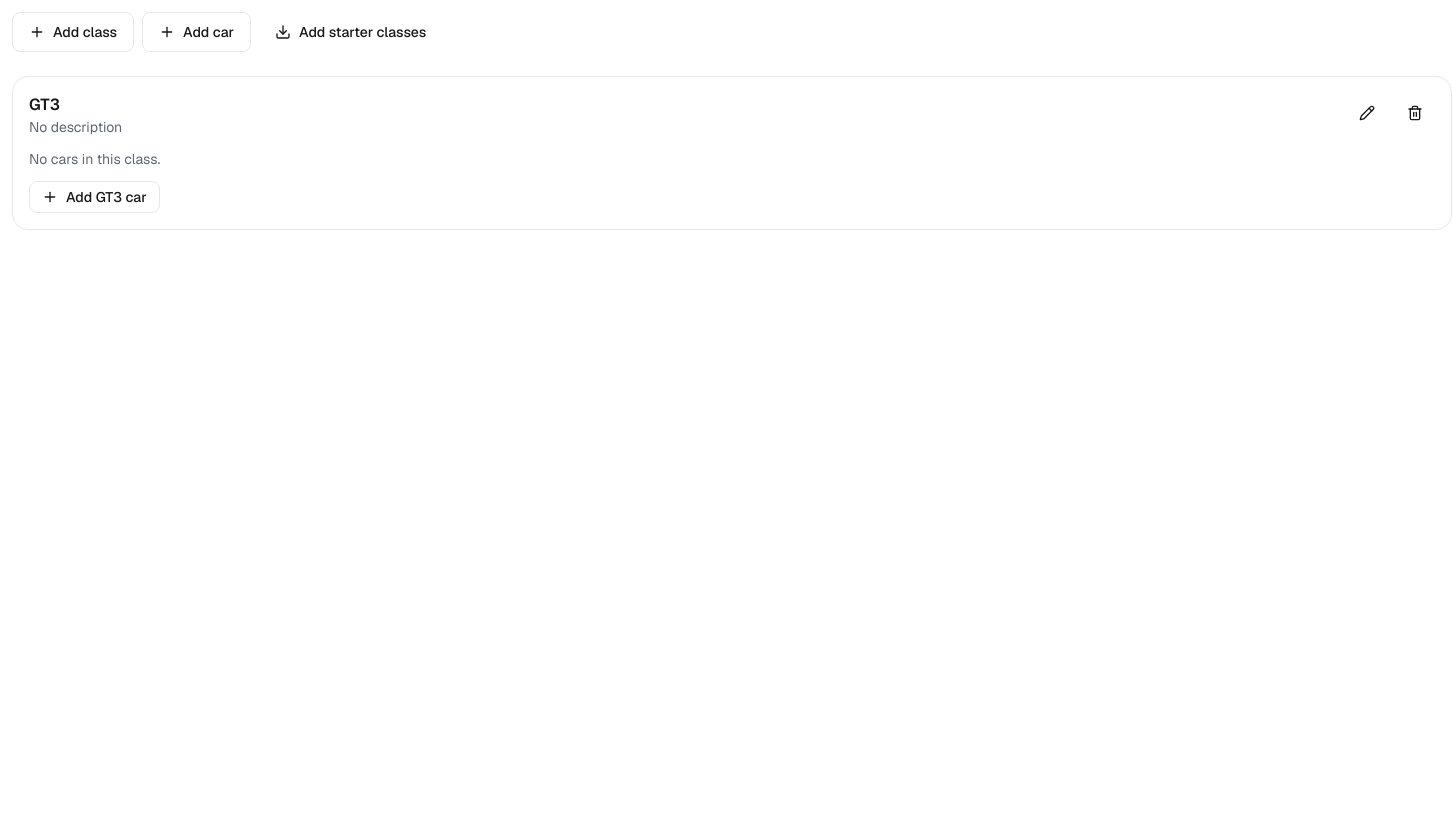
GaragePage › refuses a duplicate class name and an empty car name
The image size is (1452, 822).
Click the button "Add class": (73,32) [12,12,134,52]
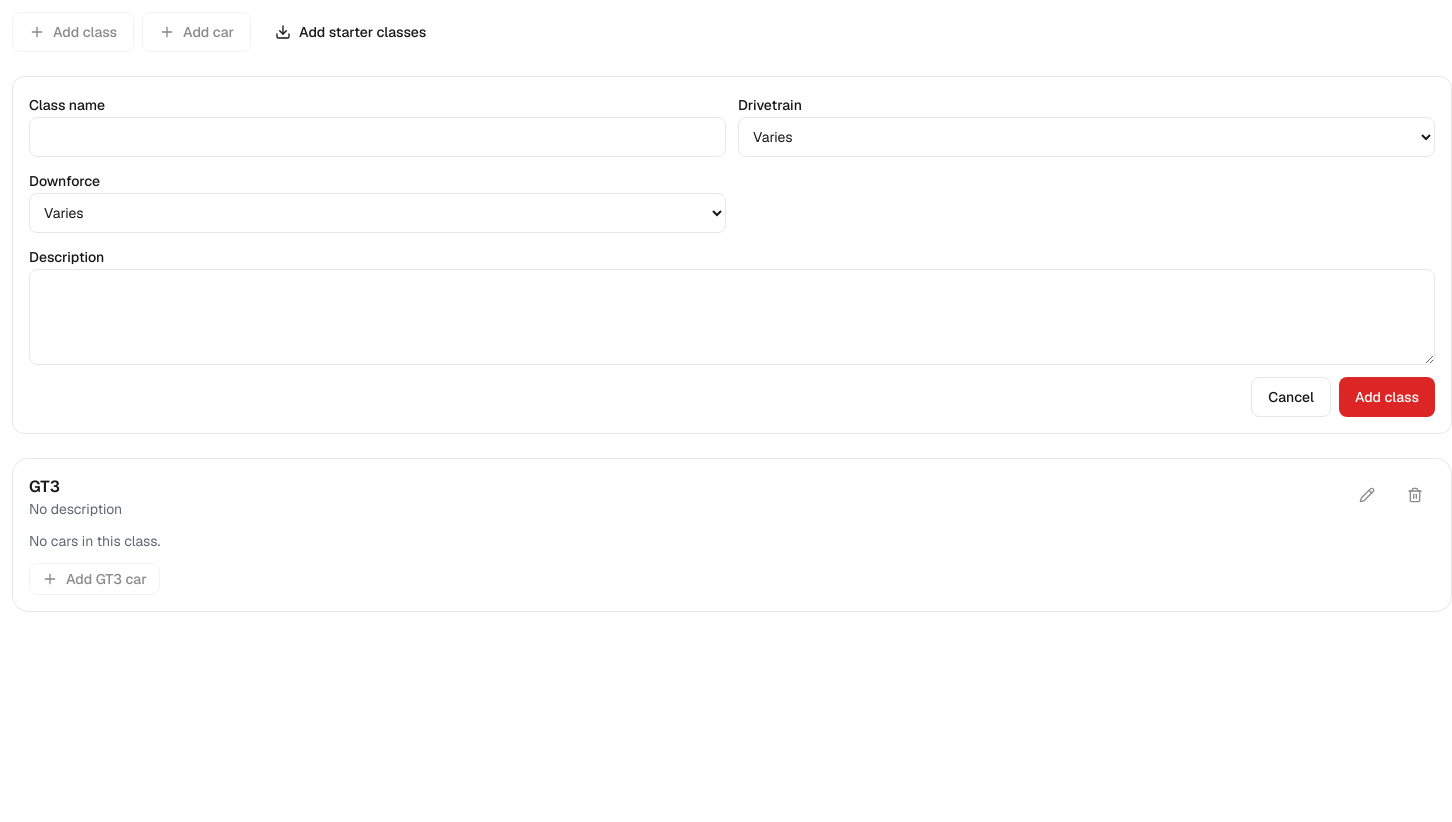
In the field labelled "Class name": (378,137) [29,117,726,157], type "gt3"
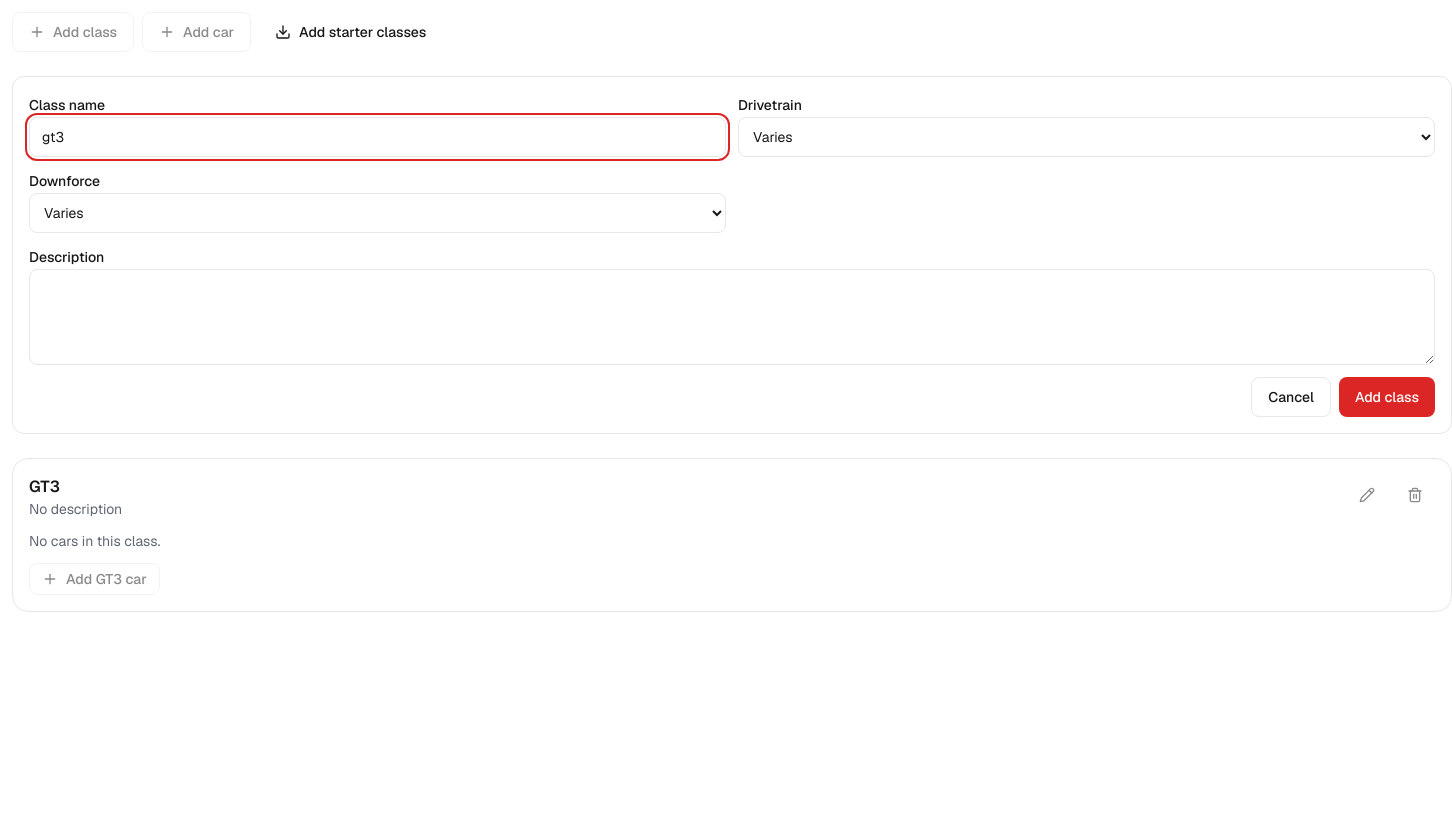
Click the 2nd button "Add class": (1387,397) [1339,377,1435,417]
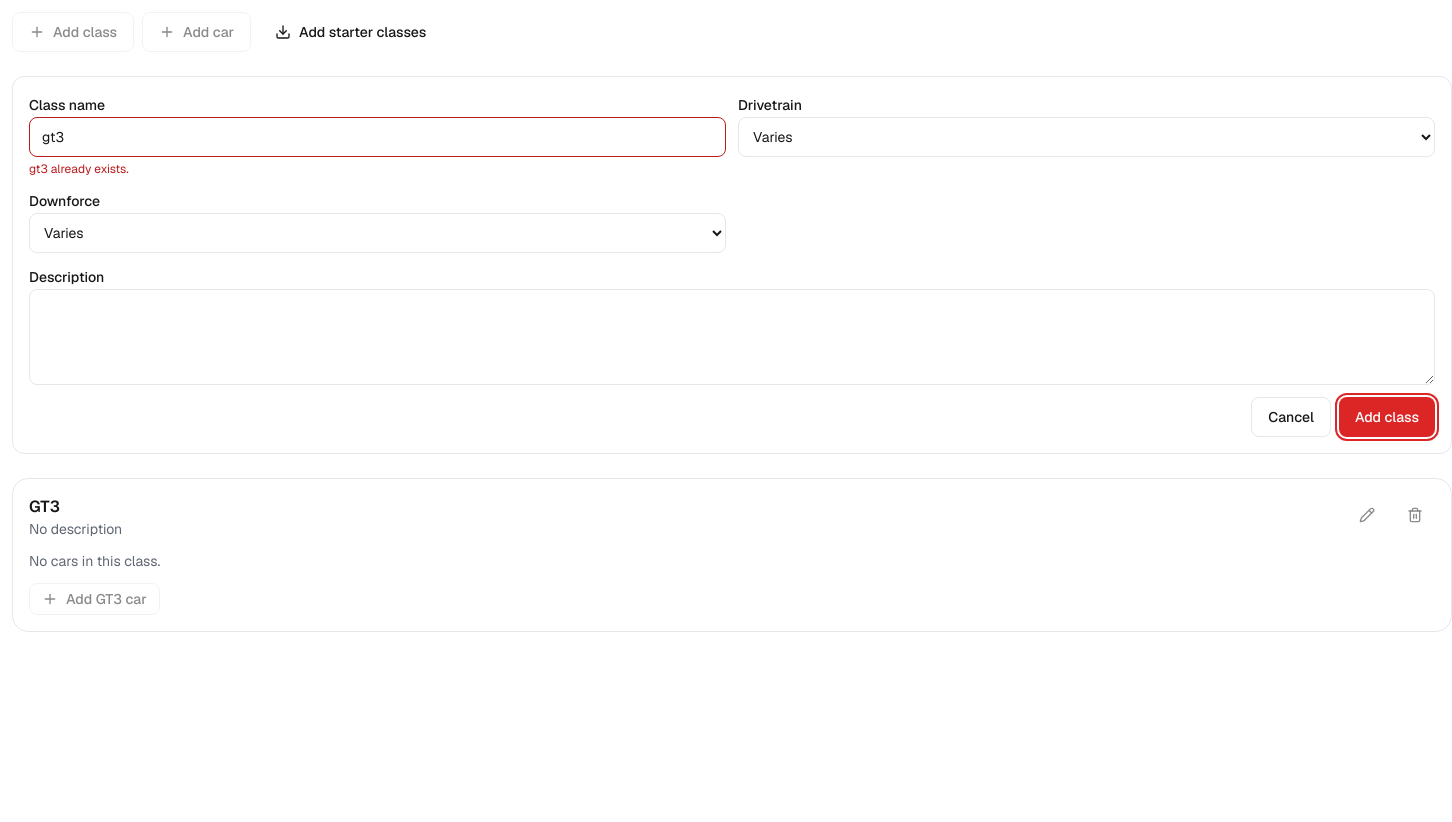
Result: the text "gt3 already exists." is shown at [29,161,129,177]
Click the button "Cancel": (1291,417) [1251,397,1331,437]
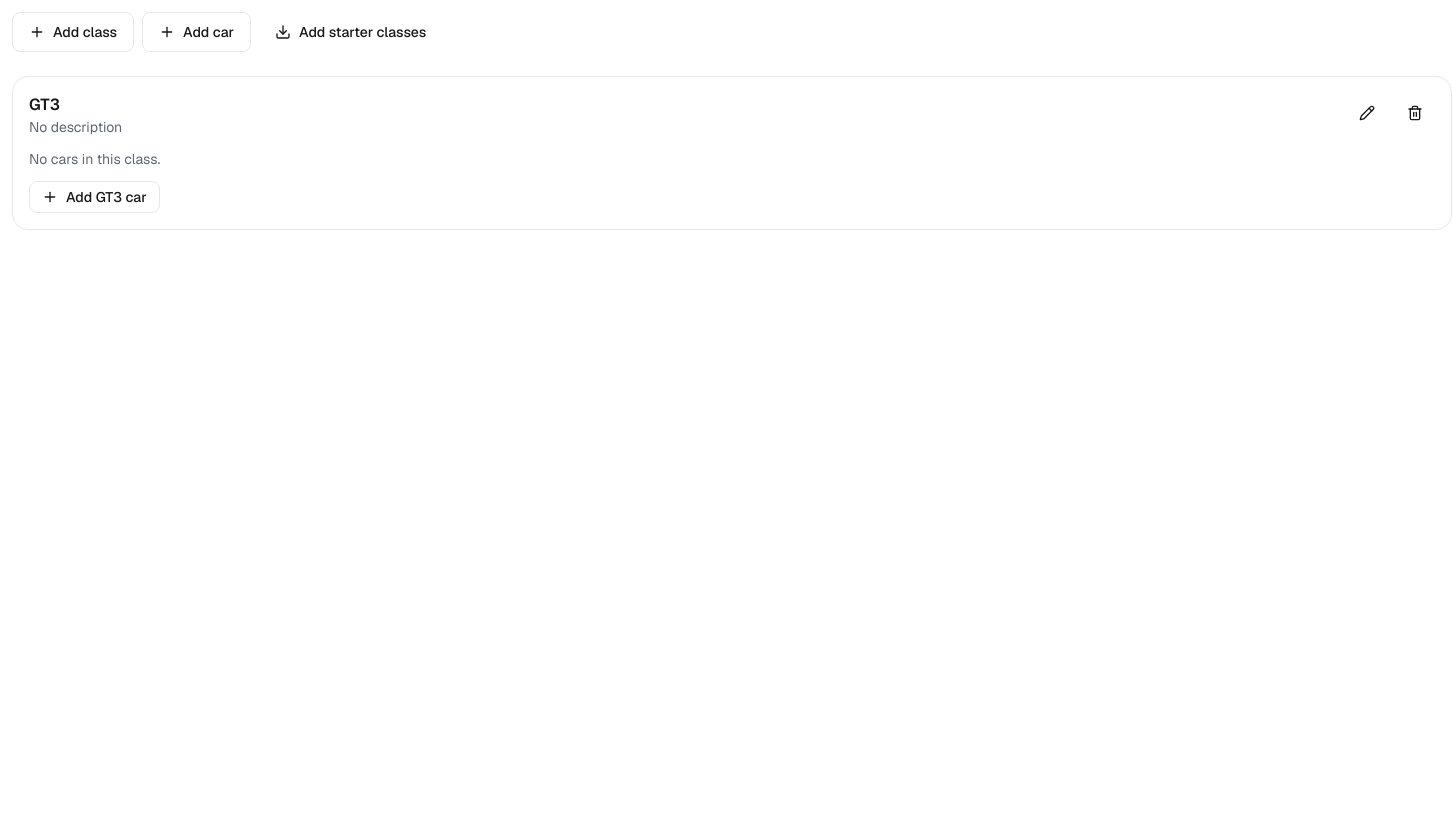
Click the button "Add car": (197,32) [142,12,251,52]
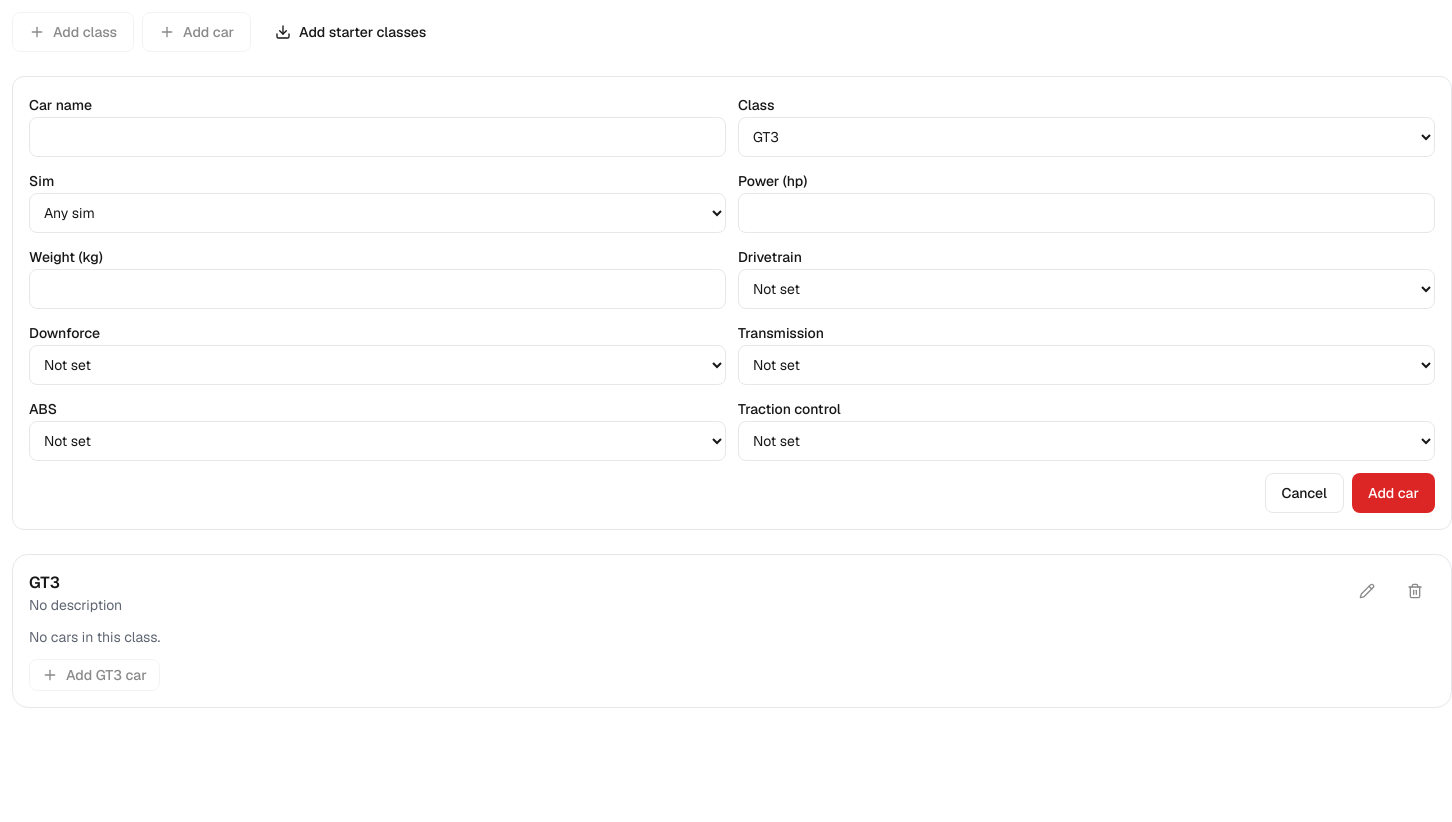
Click the 2nd button "Add car": (1394,493) [1352,473,1435,513]
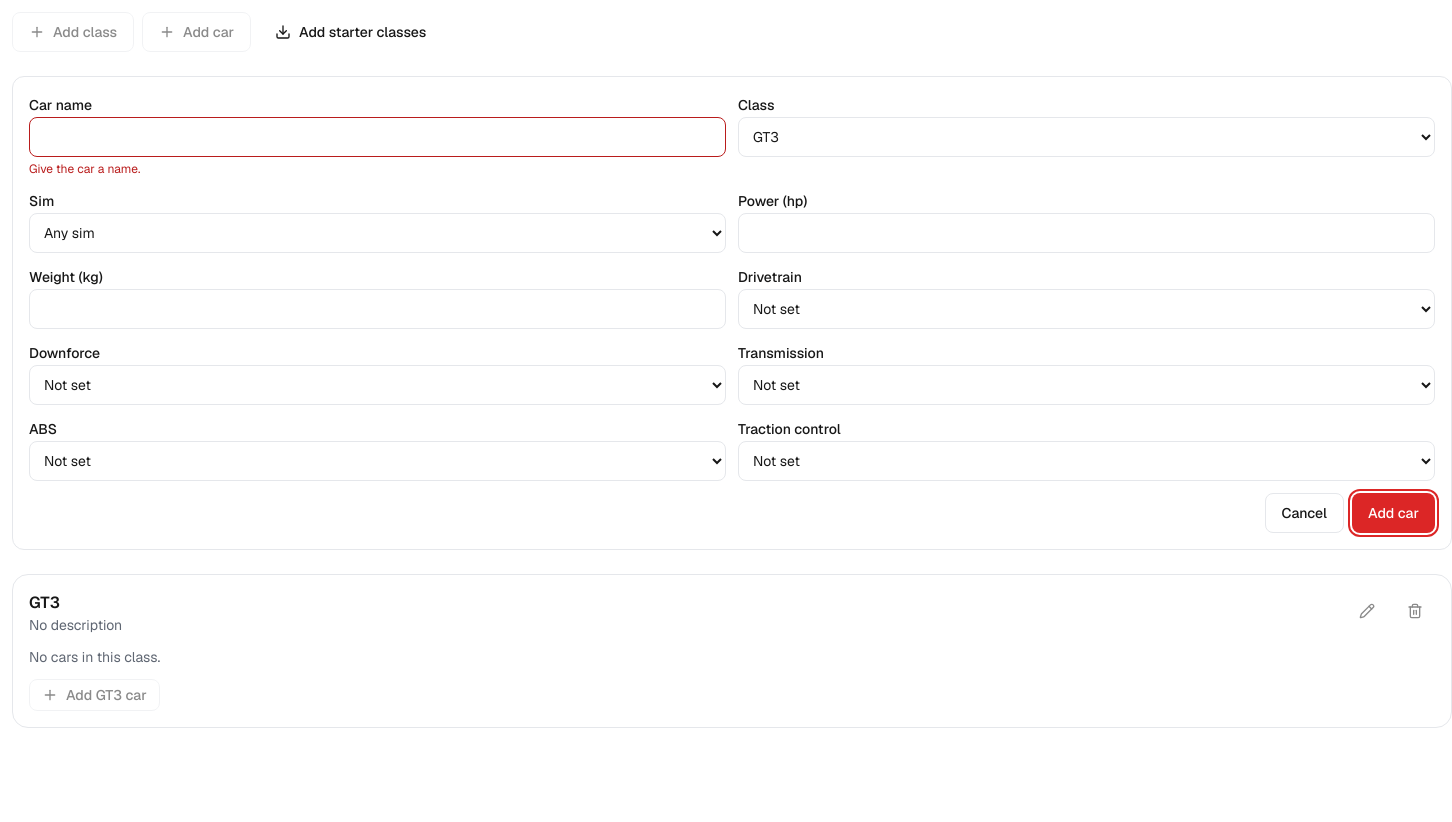
Result: the text "Give the car a name." is shown at [29,161,140,177]
